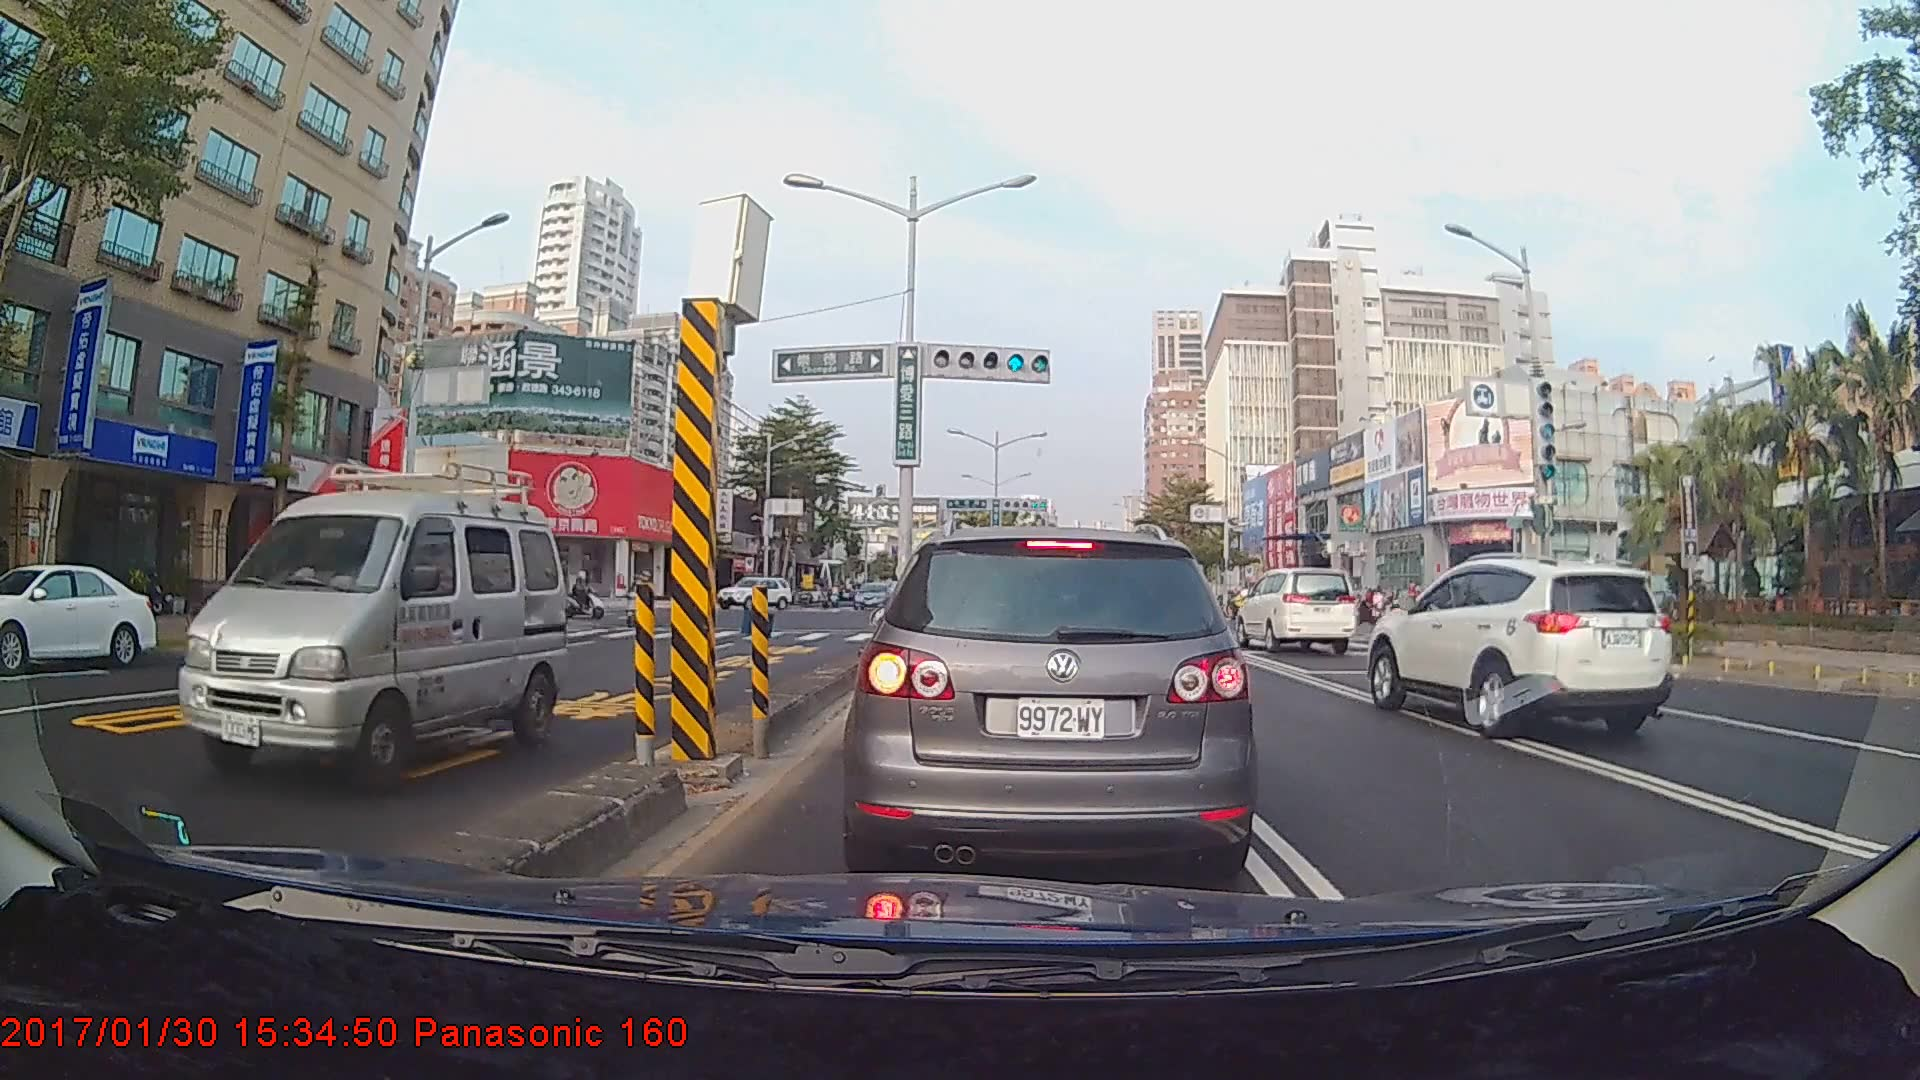rider: (562, 568, 614, 625), (1397, 580, 1422, 637)
vehicle: (855, 519, 1252, 880), (175, 458, 568, 792), (1364, 553, 1673, 737), (0, 561, 157, 671), (1231, 565, 1358, 656), (853, 580, 893, 611)
